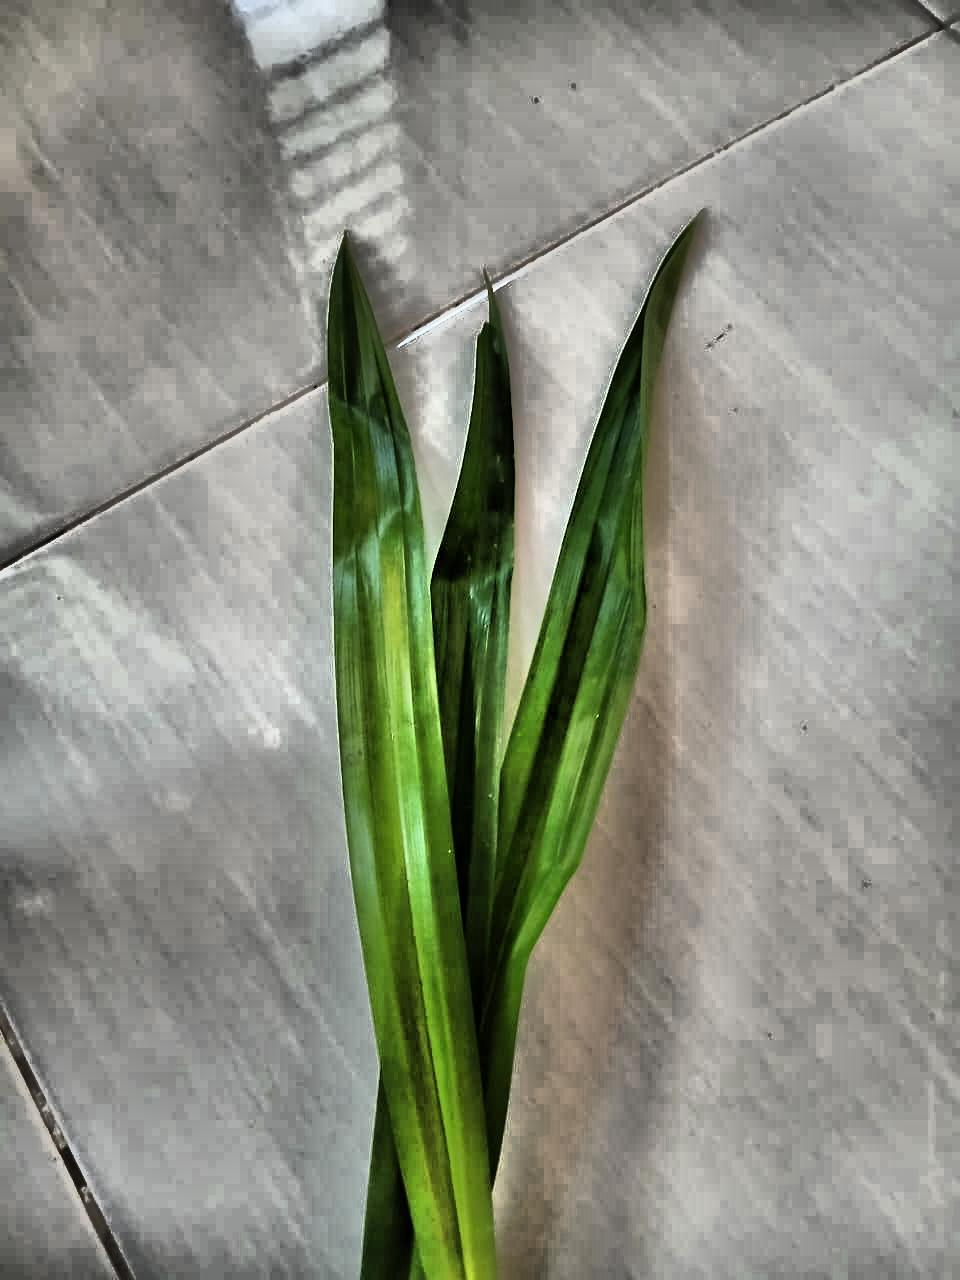daun pandan: (328, 220, 695, 1279)
